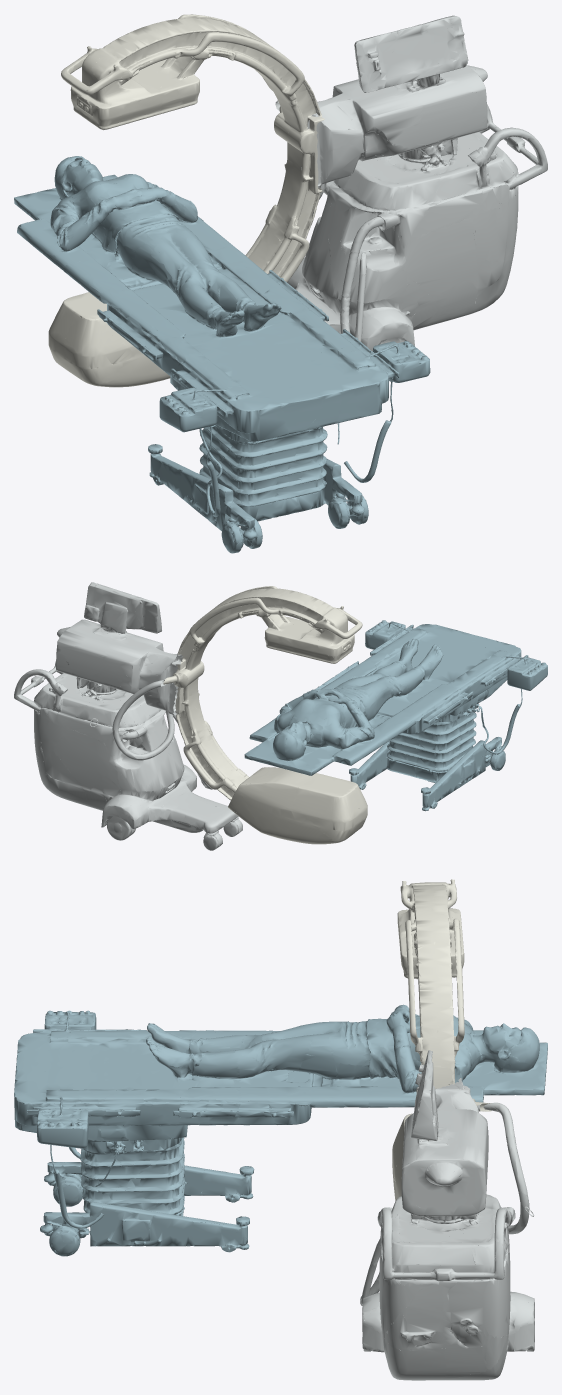
The model's file is fluoroview-carm.glb.
3 views of the same model, one above another, from view 1: azimuth 30°, elevation 25°; view 2: azimuth 150°, elevation 25°; view 3: azimuth 270°, elevation 25° (orthographic). The views are drawn at different scales.
Parts seen in each view (by area): view 1: Mesh_0.004, Mesh_0.003, Mesh_0.002; view 2: Mesh_0.003, Mesh_0.004, Mesh_0.002; view 3: Mesh_0.004, Mesh_0.003, Mesh_0.002.
Boxes of the visible parts, bbox=[...] form: Mesh_0.004: bbox=[14, 156, 430, 553]; Mesh_0.003: bbox=[275, 15, 547, 351]; Mesh_0.002: bbox=[48, 14, 324, 387]; Mesh_0.003: bbox=[14, 582, 242, 850]; Mesh_0.004: bbox=[244, 620, 547, 811]; Mesh_0.002: bbox=[163, 586, 367, 844]; Mesh_0.004: bbox=[14, 1004, 547, 1256]; Mesh_0.003: bbox=[360, 1050, 534, 1380]; Mesh_0.002: bbox=[392, 879, 491, 1200].
Size of the model in its own units: 2.2 by 1.43 by 1.91.
